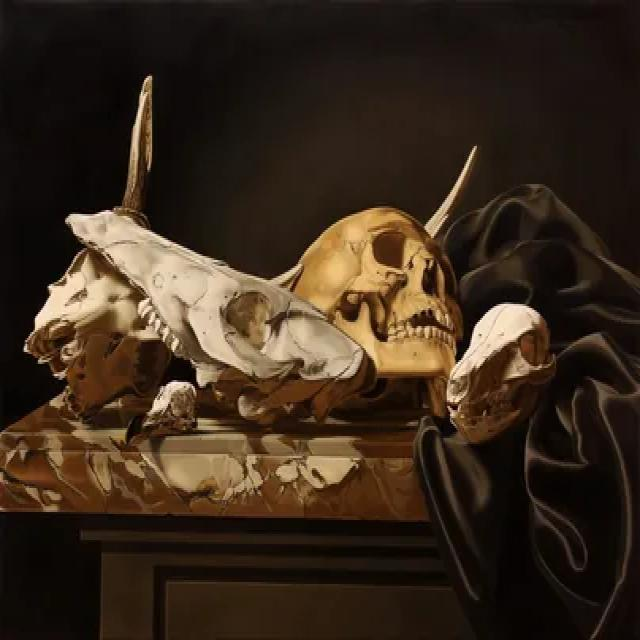skull: (300, 209, 470, 412)
